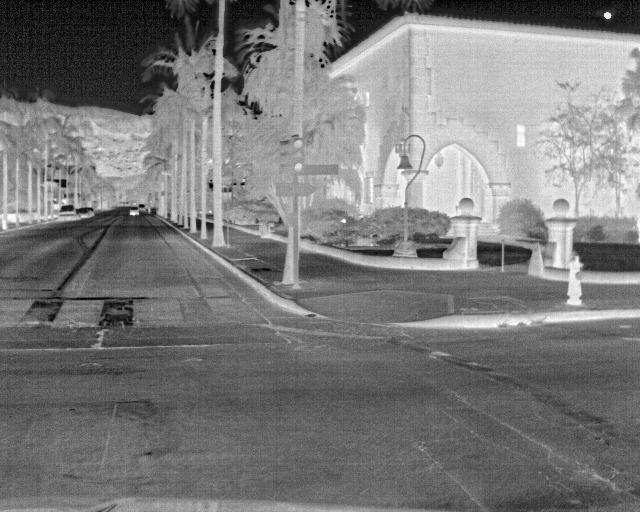car: (59, 203, 78, 222), (75, 207, 91, 221), (128, 205, 139, 217), (134, 203, 146, 213)
